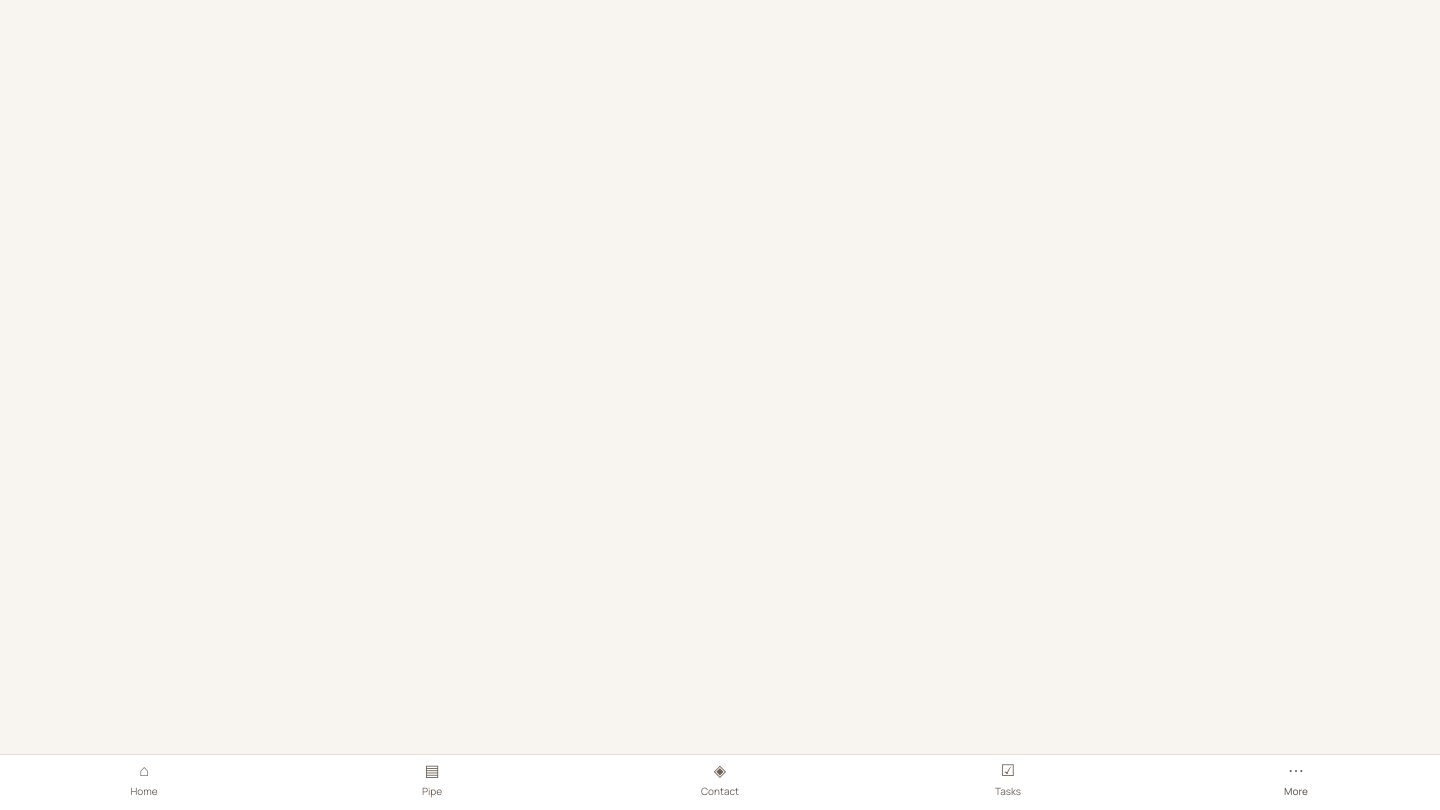
MobileNav › closes the More sheet on an outside click
The image size is (1440, 810).
Click the button "⋯ More". click: (1296, 782)
box: top-left (1152, 755), bottom-right (1439, 809)
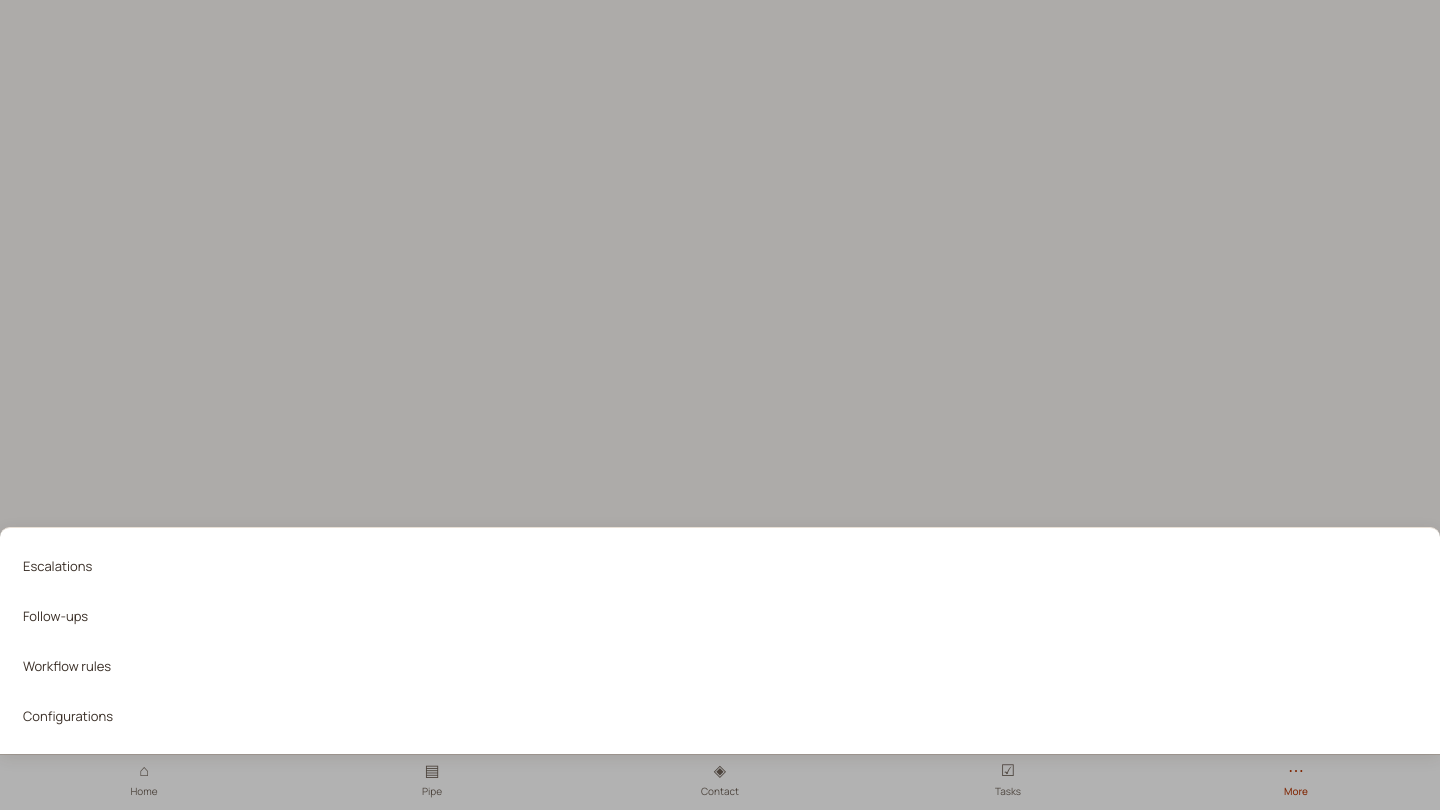
Expected: the link "Configurations" is shown, top-left (23, 707), bottom-right (113, 725)
Click the element with test id "mobile-nav-backdrop". click: (720, 405)
box: top-left (0, 0), bottom-right (1439, 809)
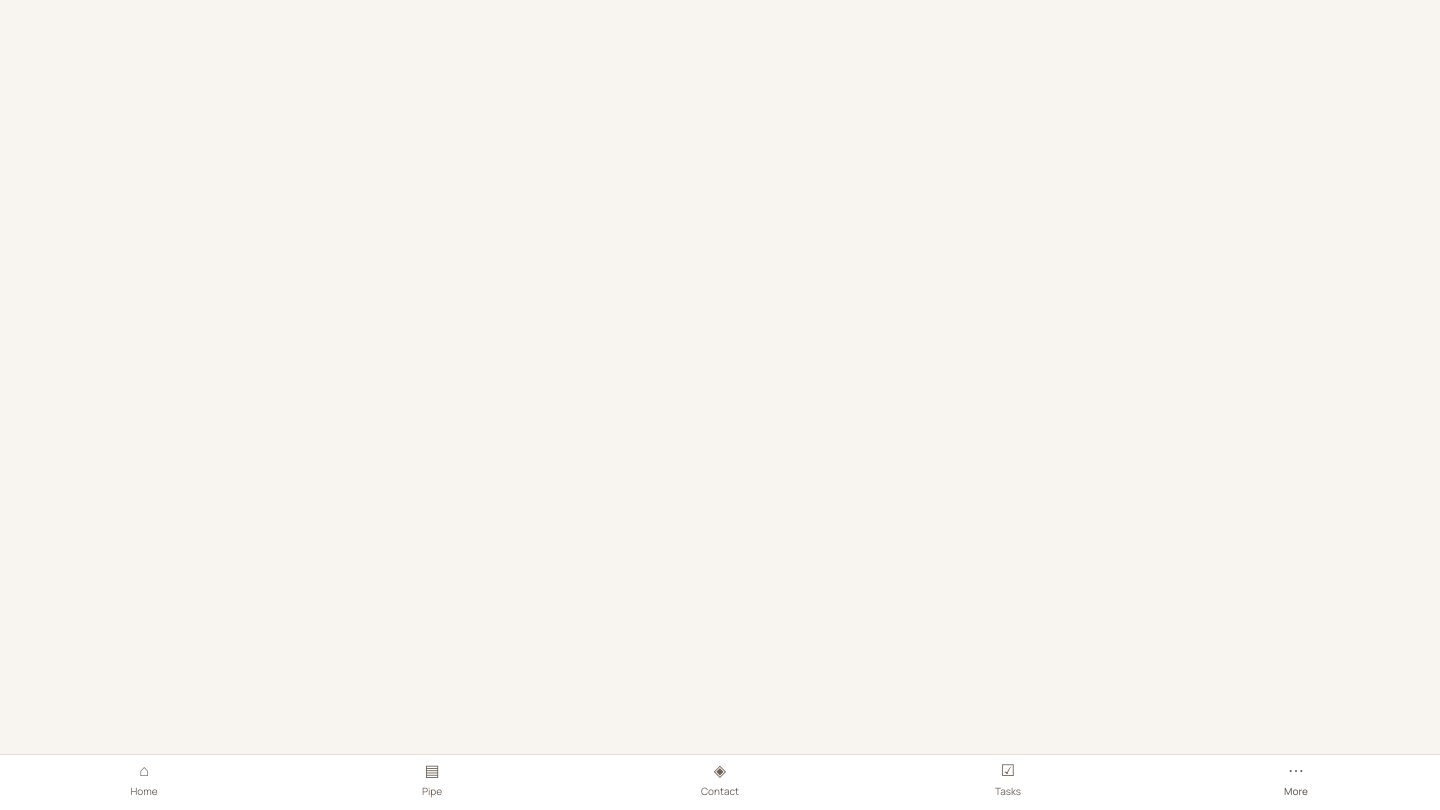
Expected: the link "Configurations" is gone
